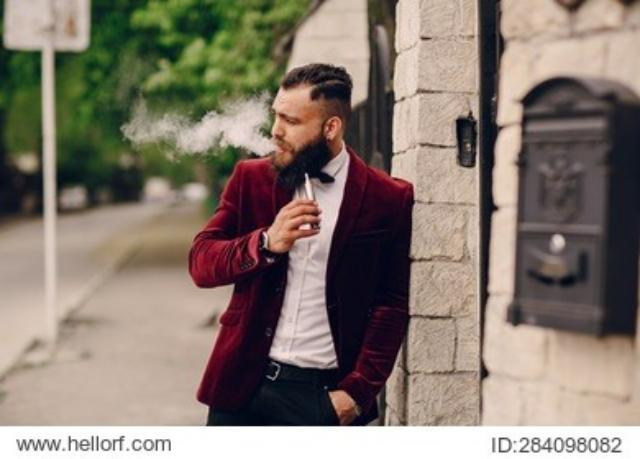Smoking: (295, 164, 331, 234)
